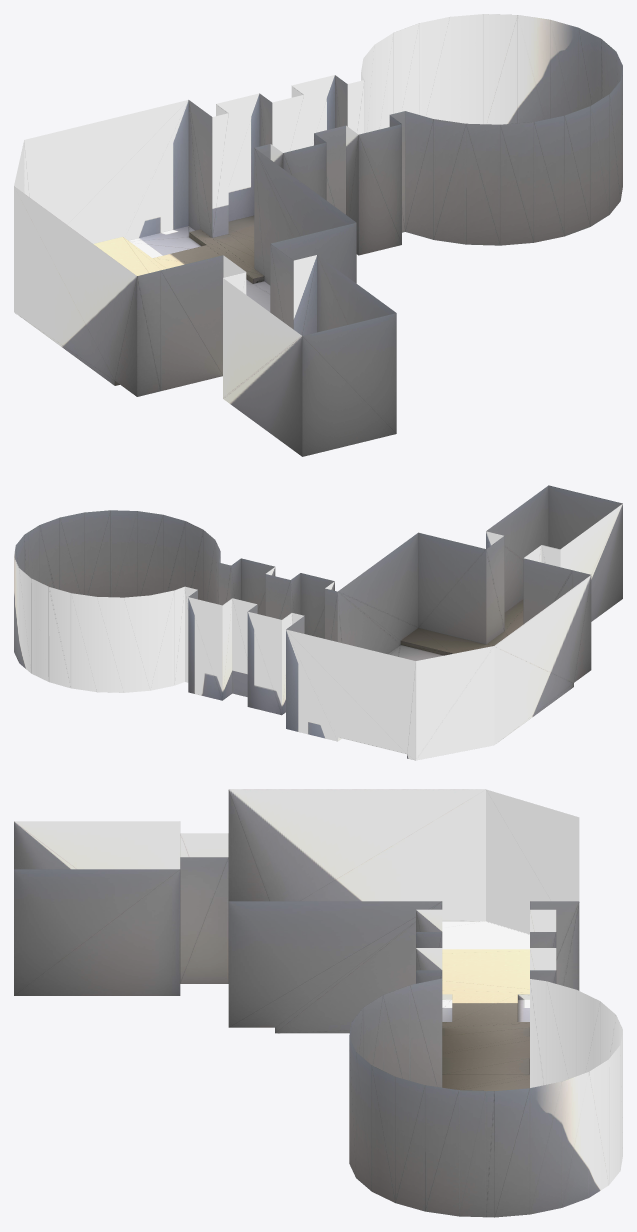
Rendered from map.glb.
3 renders of one model, top to bottom at view 1: azimuth 30°, elevation 25°; view 2: azimuth 150°, elevation 25°; view 3: azimuth 270°, elevation 25°, orthographic. The views are drawn at different scales.
Visible parts, largest first — view 1: Geom3D_Компонент#1, Geom3D.020; view 2: Geom3D_Компонент#1, Geom3D.020; view 3: Geom3D_Компонент#1, Geom3D.020.
Boxes of the visible parts, <box> form: Geom3D_Компонент#1: <box>14,14,622,456</box>; Geom3D.020: <box>93,215,264,385</box>; Geom3D_Компонент#1: <box>14,485,622,760</box>; Geom3D.020: <box>400,599,523,655</box>; Geom3D_Компонент#1: <box>14,789,622,1217</box>; Geom3D.020: <box>442,949,529,1090</box>.
Size of the model in its own units: 111 by 22.61 by 94.67.
Materials: 2 (2 with a texture image).
